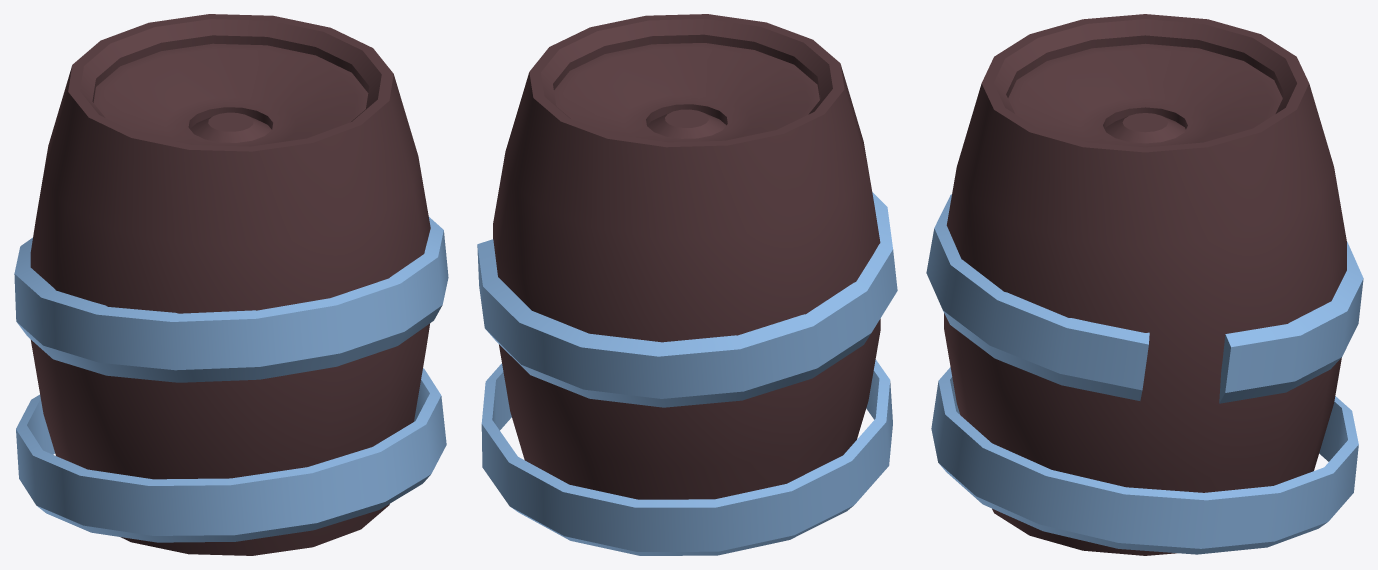
Rendered from woodenbarrel_broken.fbx.
3 views of the same model, side by side, from view 1: azimuth 30°, elevation 25°; view 2: azimuth 150°, elevation 25°; view 3: azimuth 270°, elevation 25° (orthographic). The views are drawn at different scales.
Parts seen in each view (by area): view 1: Circle.001; view 2: Circle.001; view 3: Circle.001.
Part boxes in pixels (x1=…): Circle.001: x1=14, y1=14, x2=448, y2=555; Circle.001: x1=477, y1=14, x2=897, y2=555; Circle.001: x1=926, y1=14, x2=1363, y2=555.
Bounding box in the file's own units: 1.02 × 1.05 × 1.02.
